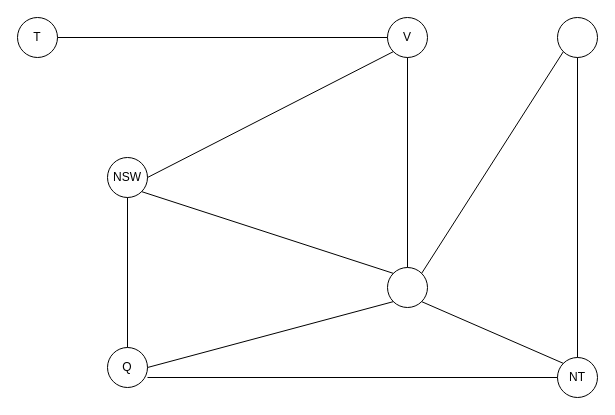
Image size: 615x415. Some labels were removed from this diagram. Each missing label, with the centre of its shape:
"SA" belongs at (x=407, y=287).
"WA" belongs at (x=577, y=37).
